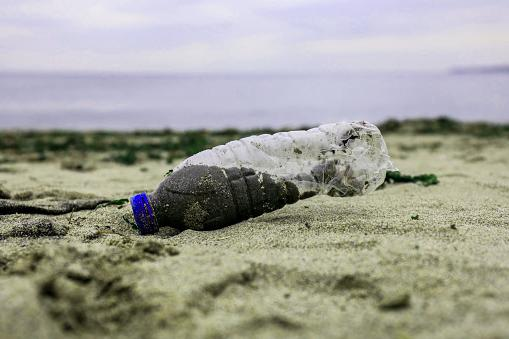Plastic: (130, 123, 388, 236)
